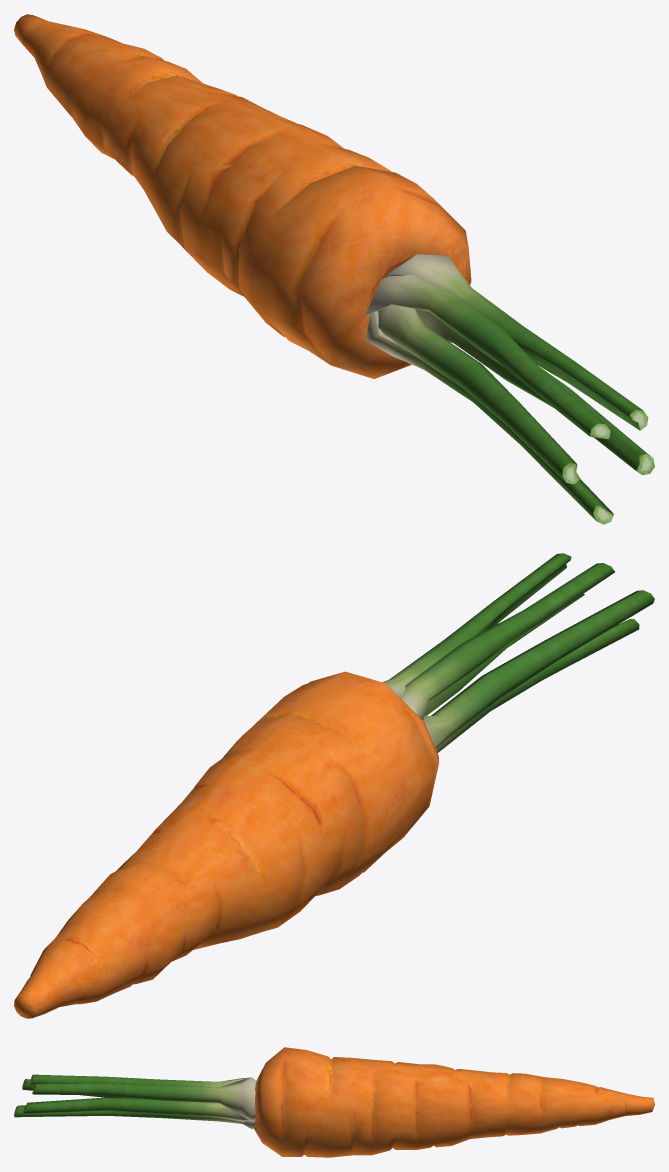
File: Carrot.obj
3 views of the same model, one above another, from view 1: azimuth 30°, elevation 25°; view 2: azimuth 150°, elevation 25°; view 3: azimuth 270°, elevation 25° (orthographic). The views are drawn at different scales.
Visible parts, largest first — view 1: Carrot_11; view 2: Carrot_11; view 3: Carrot_11.
Part boxes in pixels (x1,y1,x2,y2): Carrot_11: (14, 14, 654, 524); Carrot_11: (14, 553, 654, 1018); Carrot_11: (14, 1047, 654, 1157).
Size of the model in its own units: 1 by 1 by 6.
Materials: 1 (1 with a texture image).
